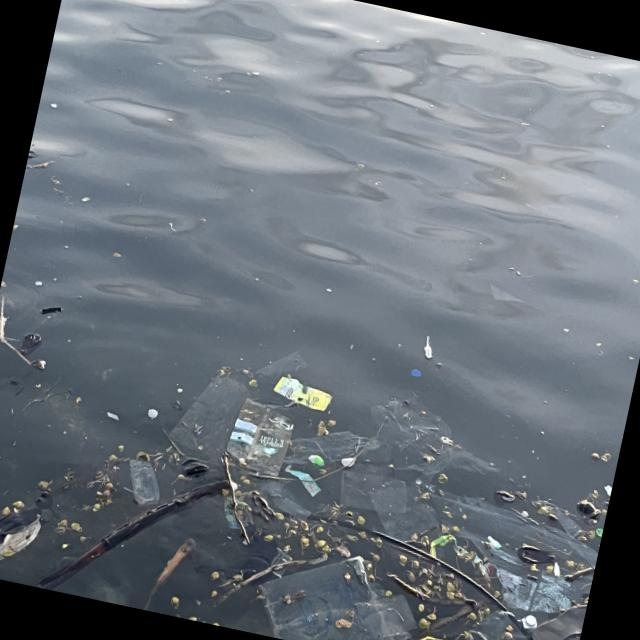foam: (552, 561, 563, 578)
plastic bag: (227, 402, 292, 471), (278, 371, 332, 412)
